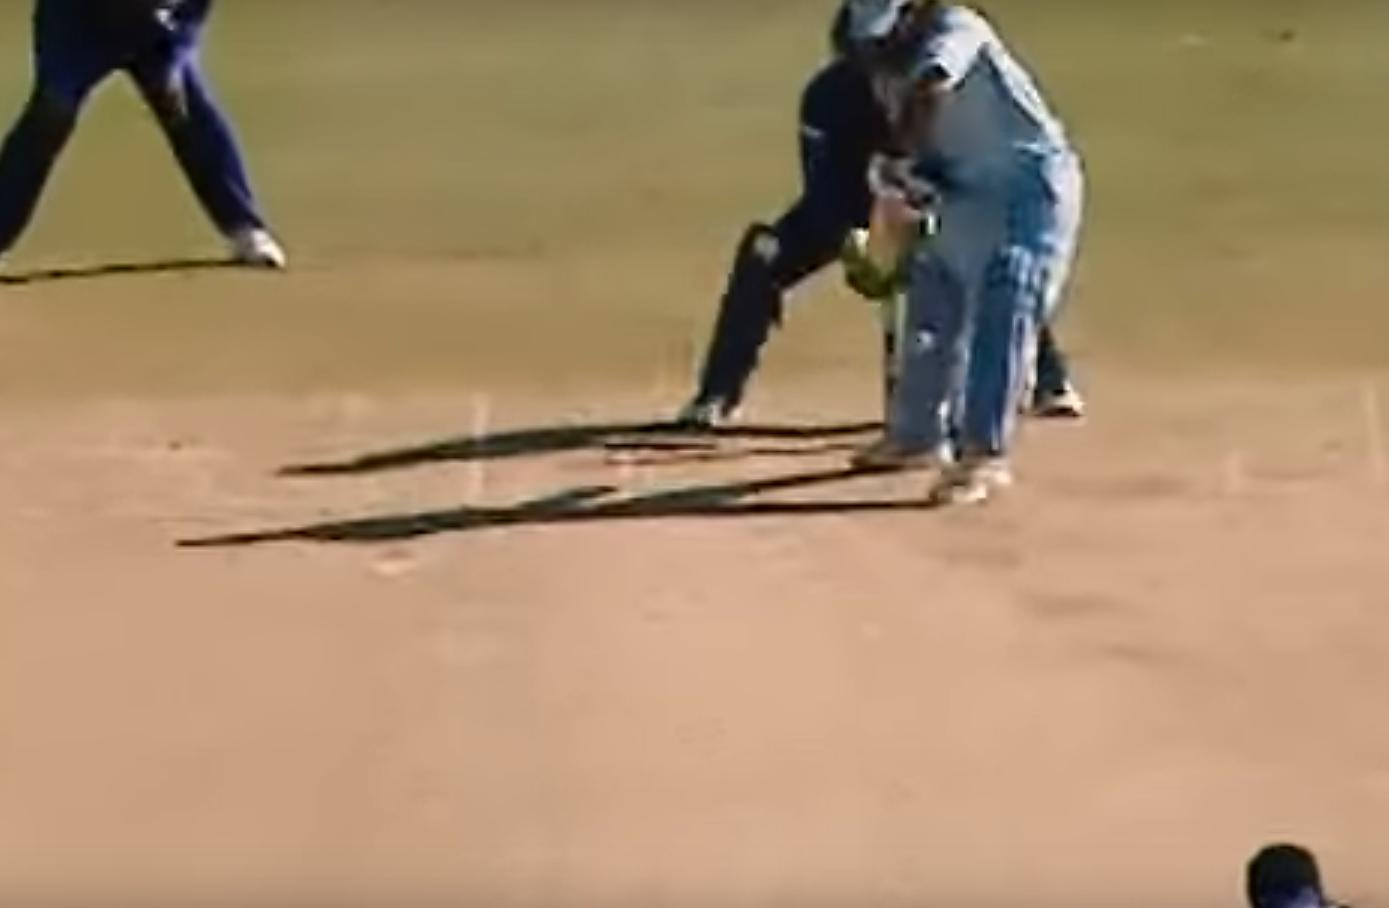Cricket-Ball: (841, 225, 872, 257)
